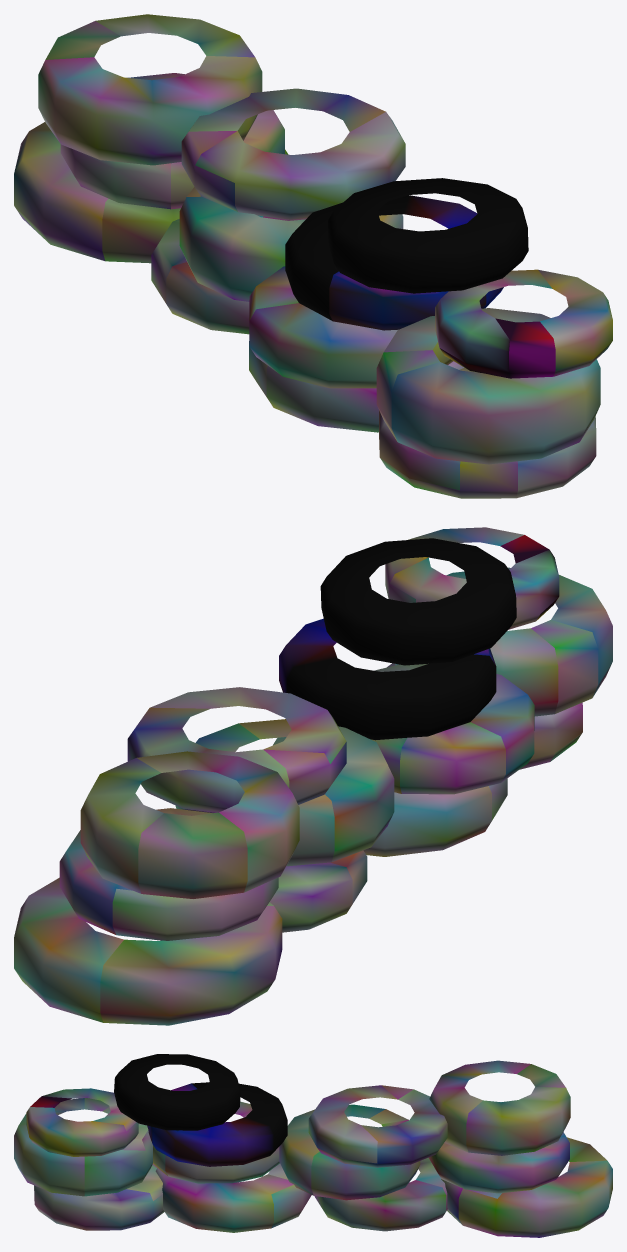
Rendered from TirePile01.gltf.
3 renders of one model, top to bottom at view 1: azimuth 30°, elevation 25°; view 2: azimuth 150°, elevation 25°; view 3: azimuth 270°, elevation 25°, orthographic. The views are drawn at different scales.
Parts seen in each view (by area): view 1: TirePile01; view 2: TirePile01; view 3: TirePile01.
Part boxes in pixels (x1=…): TirePile01: x1=14, y1=14, x2=612, y2=498; TirePile01: x1=14, y1=527, x2=612, y2=1025; TirePile01: x1=14, y1=1054, x2=612, y2=1237.
Bounding box in the file's own units: 10.16 × 7.74 × 32.56.
